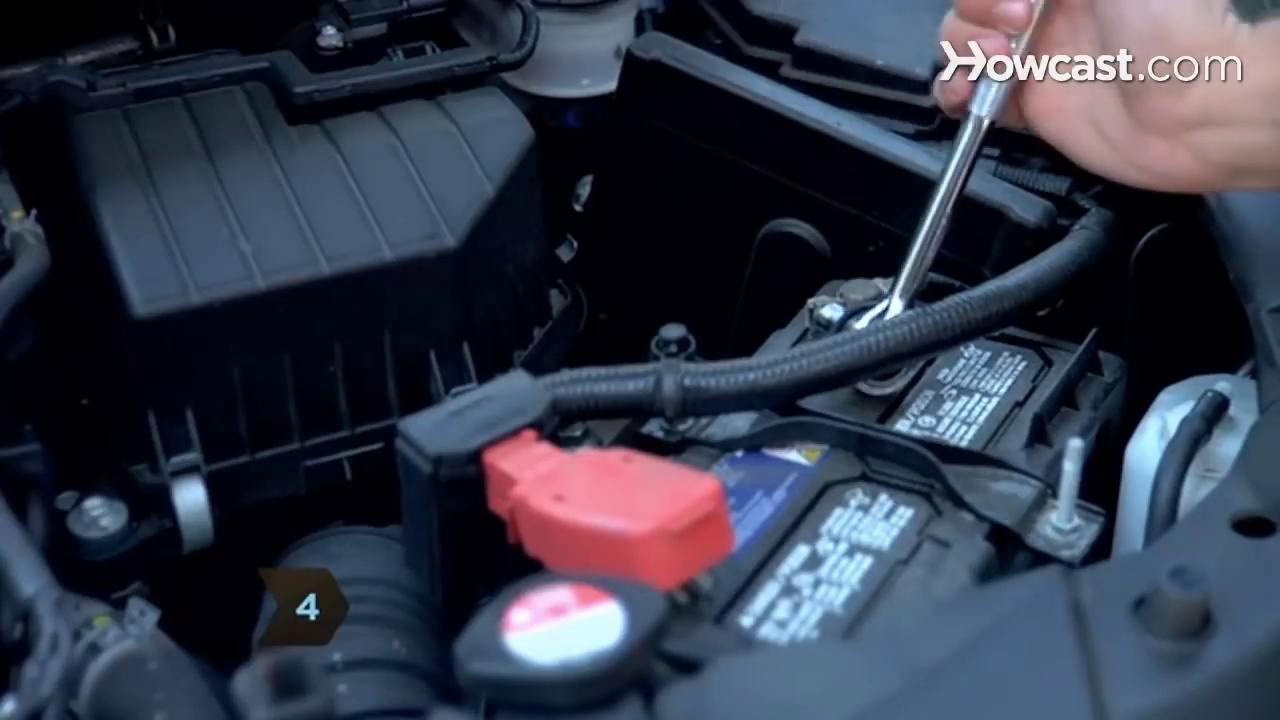battery: (487, 264, 1127, 642)
pos_connected: (452, 408, 754, 593)
